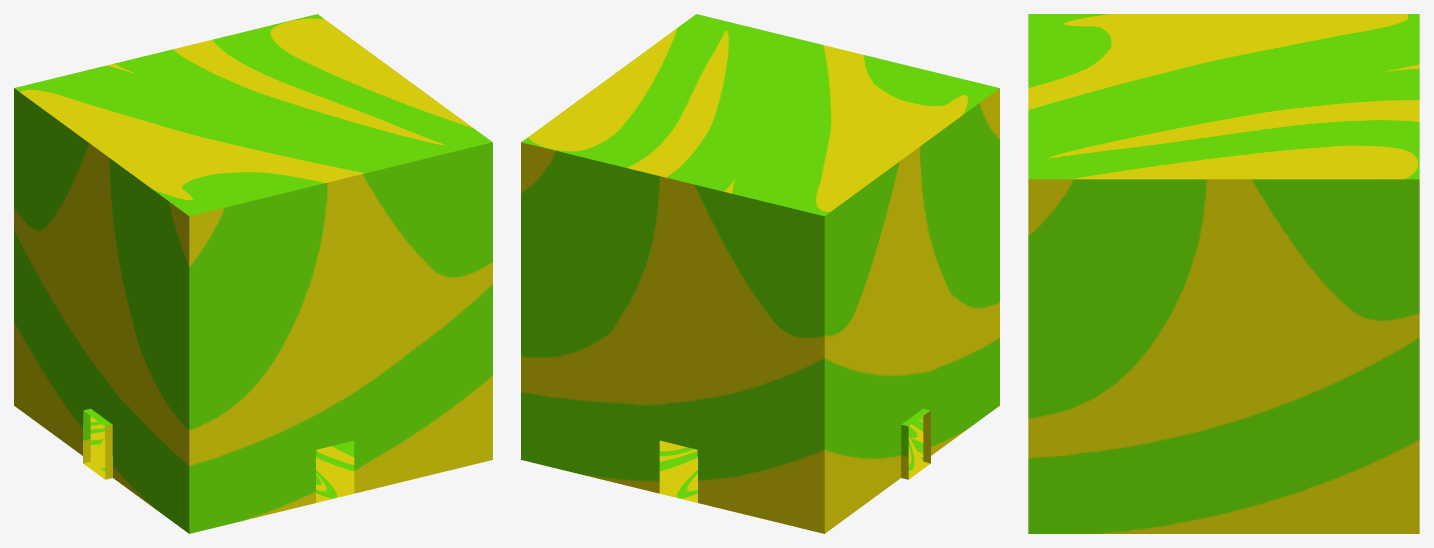
The model's file is Yellow_Rm_Coll.fbx.
The picture shows the model from 3 angles, left to right: view 1: azimuth 30°, elevation 25°; view 2: azimuth 150°, elevation 25°; view 3: azimuth 270°, elevation 25°; orthographic projection. The views are drawn at different scales.
Parts seen in each view (by area): view 1: P_Yellow_Rm_Coll; view 2: P_Yellow_Rm_Coll; view 3: P_Yellow_Rm_Coll.
Boxes of the visible parts, <box> form: P_Yellow_Rm_Coll: <box>14,14,492,533</box>; P_Yellow_Rm_Coll: <box>521,14,999,533</box>; P_Yellow_Rm_Coll: <box>1028,14,1419,533</box>.
Size of the model in its own units: 28.5 by 27.81 by 27.82.
